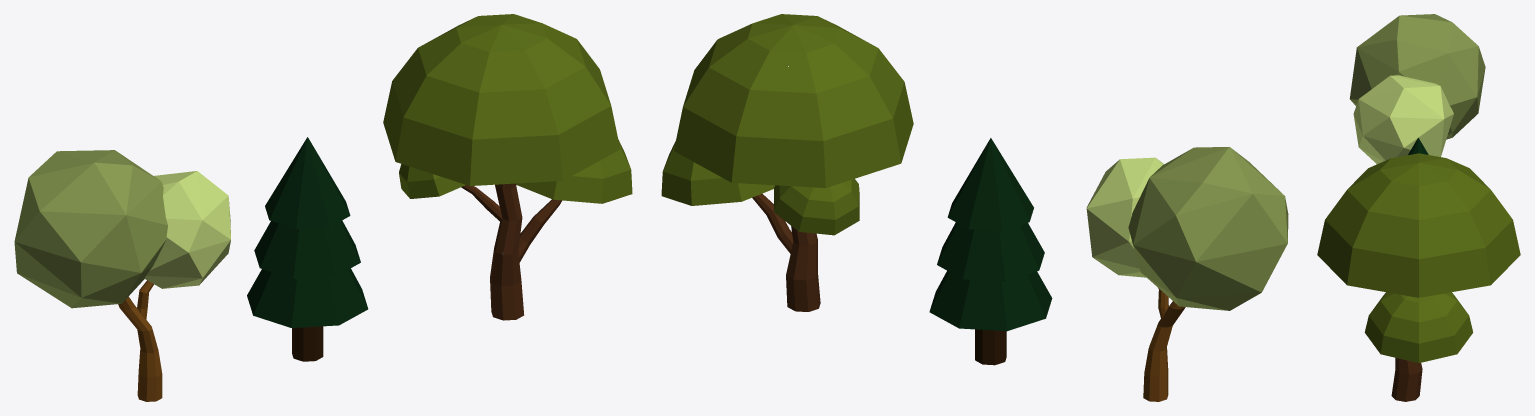
The model's file is arvores.glb.
3 views of the same model, side by side, from view 1: azimuth 30°, elevation 25°; view 2: azimuth 150°, elevation 25°; view 3: azimuth 270°, elevation 25° (orthographic). The views are drawn at different scales.
Visible parts, largest first — view 1: arvore-2_1, arvore-3_2, arvore-1_0; view 2: arvore-2_1, arvore-3_2, arvore-1_0; view 3: arvore-2_1, arvore-3_2.
Boxes of the visible parts, x1=… form: arvore-2_1: x1=383, y1=14, x2=632, y2=320; arvore-3_2: x1=14, y1=150, x2=230, y2=401; arvore-1_0: x1=247, y1=137, x2=368, y2=361; arvore-2_1: x1=661, y1=14, x2=913, y2=311; arvore-3_2: x1=1086, y1=147, x2=1288, y2=401; arvore-1_0: x1=929, y1=138, x2=1052, y2=365; arvore-2_1: x1=1317, y1=153, x2=1520, y2=401; arvore-3_2: x1=1349, y1=14, x2=1485, y2=164.
Bounding box in the file's own units: 43.32 × 19.17 × 15.06.
Materials: 3 (3 with a texture image).
